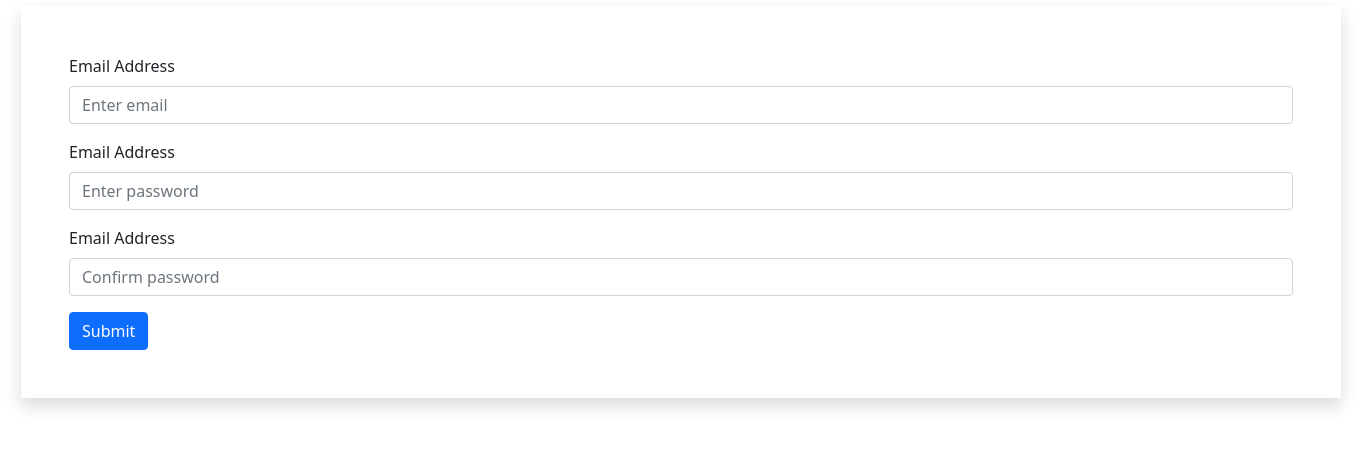
Test: testing app component › should show email error message on invalid email
Type "testgmail.com" into the field with test id "form-input-email". click: (681, 105)
box: [69,86,1293,124]
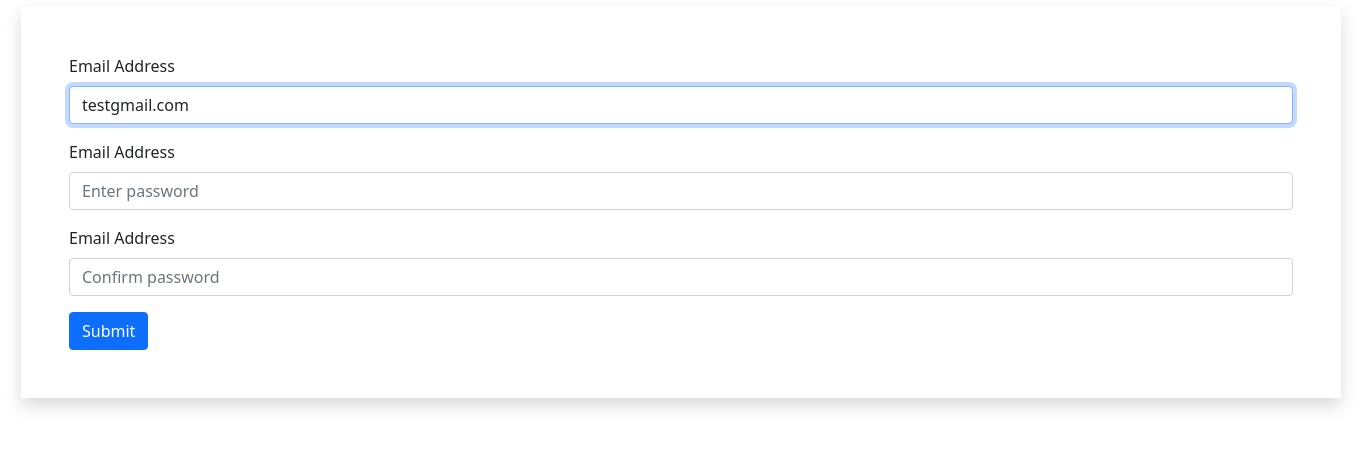
Click the button with test id "form-submit-btn". click: (109, 331)
box: [69,312,148,350]
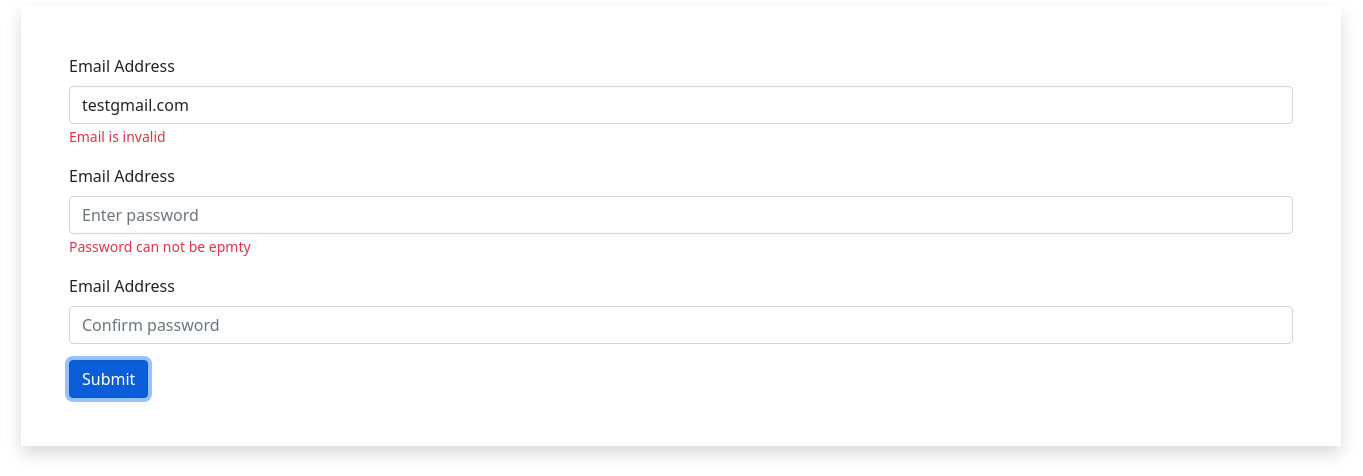
expect the text "Email is invalid" is shown: met, box [69,127,166,146]
